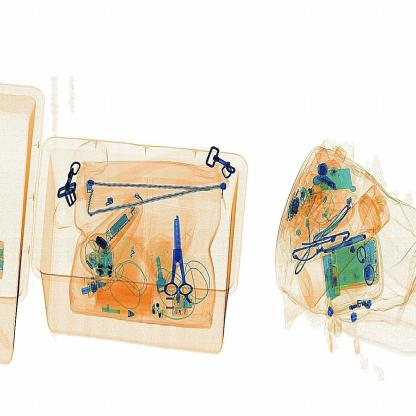gun: (154, 209, 209, 304)
